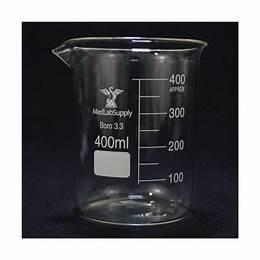Beaker: (43, 35, 214, 228)
